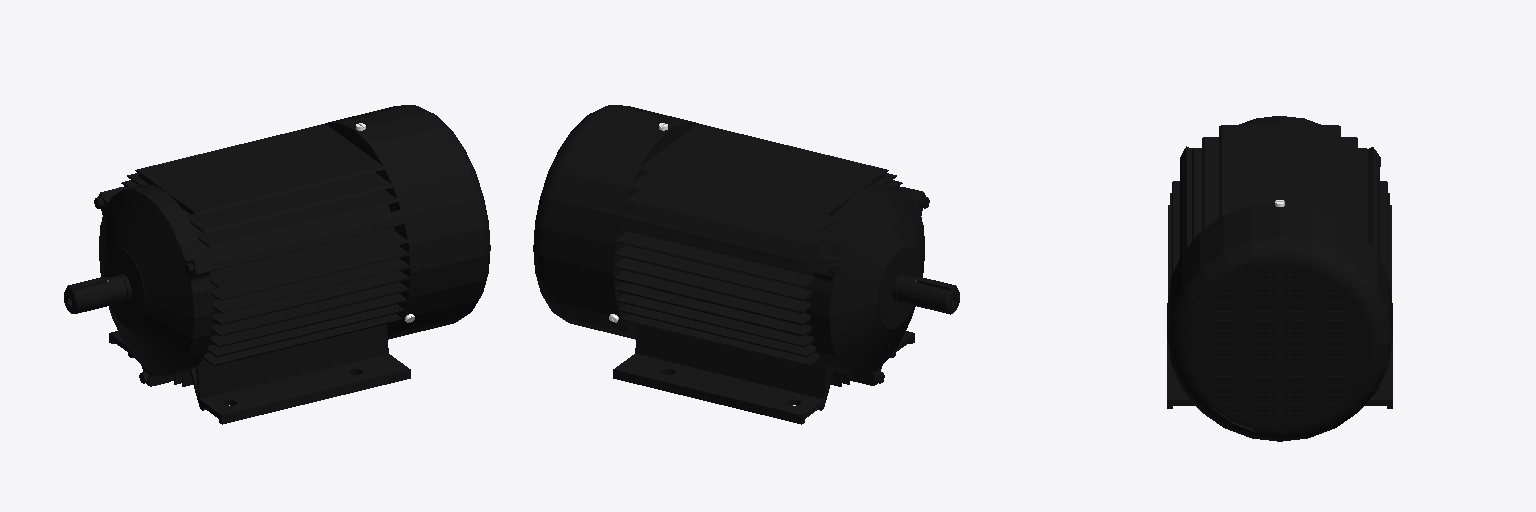
Rendered from senkron.obj.
3 renders of one model, left to right at view 1: azimuth 30°, elevation 25°; view 2: azimuth 150°, elevation 25°; view 3: azimuth 270°, elevation 25°, orthographic.
Visible parts, largest first — view 1: Mesh67 Mesh6 aaa_obj Model, Mesh23 Mesh2 aaa_obj Model, Mesh56 Mesh5 aaa_obj Model, Mesh7 Mesh8 aaa_obj Model; view 2: Mesh67 Mesh6 aaa_obj Model, Mesh23 Mesh2 aaa_obj Model, Mesh56 Mesh5 aaa_obj Model, Mesh7 Mesh8 aaa_obj Model; view 3: Mesh23 Mesh2 aaa_obj Model, Mesh67 Mesh6 aaa_obj Model, Mesh56 Mesh5 aaa_obj Model.
Part boxes in pixels (x1,y1,x2,y2): Mesh67 Mesh6 aaa_obj Model: (109, 124, 410, 424); Mesh23 Mesh2 aaa_obj Model: (325, 105, 490, 339); Mesh56 Mesh5 aaa_obj Model: (94, 185, 214, 386); Mesh7 Mesh8 aaa_obj Model: (64, 274, 131, 313); Mesh67 Mesh6 aaa_obj Model: (613, 124, 914, 424); Mesh23 Mesh2 aaa_obj Model: (533, 105, 698, 339); Mesh56 Mesh5 aaa_obj Model: (808, 185, 929, 385); Mesh7 Mesh8 aaa_obj Model: (892, 274, 959, 314); Mesh23 Mesh2 aaa_obj Model: (1167, 202, 1392, 441); Mesh67 Mesh6 aaa_obj Model: (1167, 125, 1392, 408); Mesh56 Mesh5 aaa_obj Model: (1180, 116, 1380, 166).
Size of the model in its own units: 296 by 160 by 155.